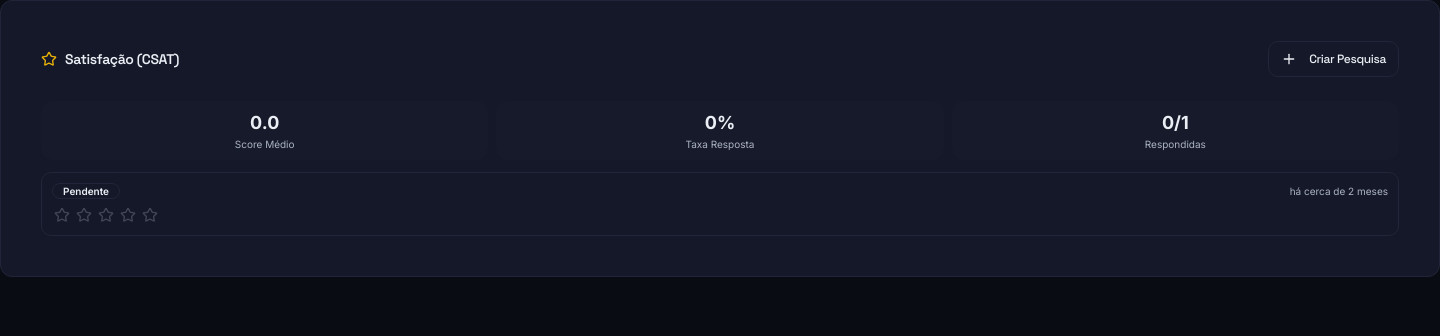
Registro manual de satisfação › oferece criar uma pesquisa e mantém a nota selecionada até confirmar a gravação
Later steps or results of the test are not shown.
Click the button "Criar Pesquisa".
click(1334, 59)  # box [1268, 41, 1399, 77]
Click the button named "Nota 5 estrelas".
click(150, 215)  # box [140, 205, 160, 225]
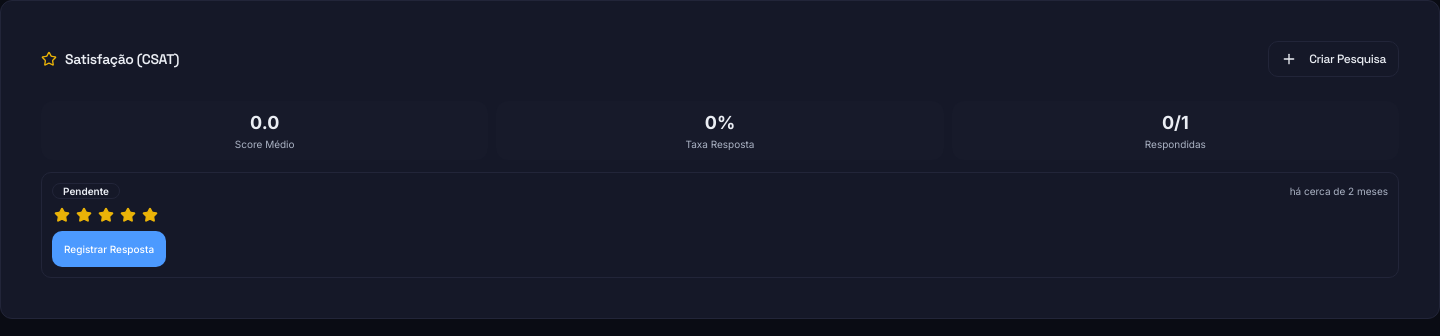
Click the button "Registrar Resposta".
click(109, 249)  # box [52, 231, 166, 267]
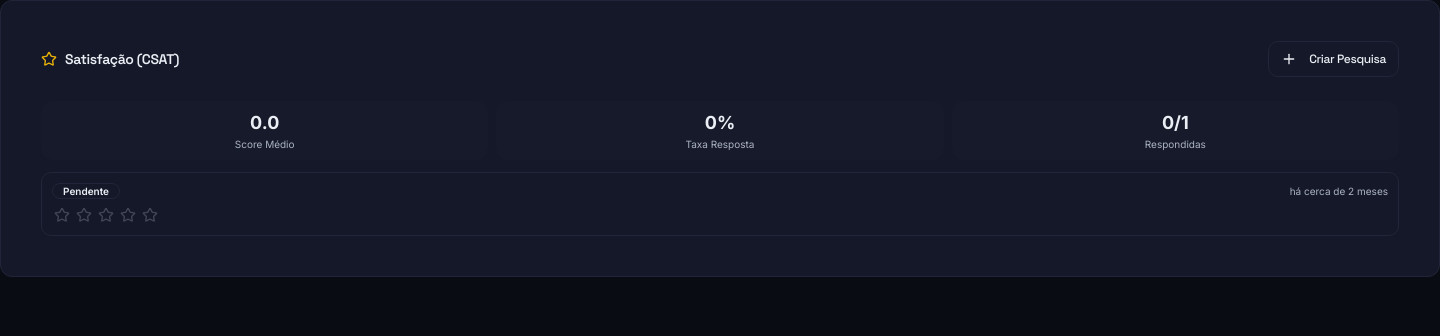
Expected: the button "Registrar Resposta" is gone
